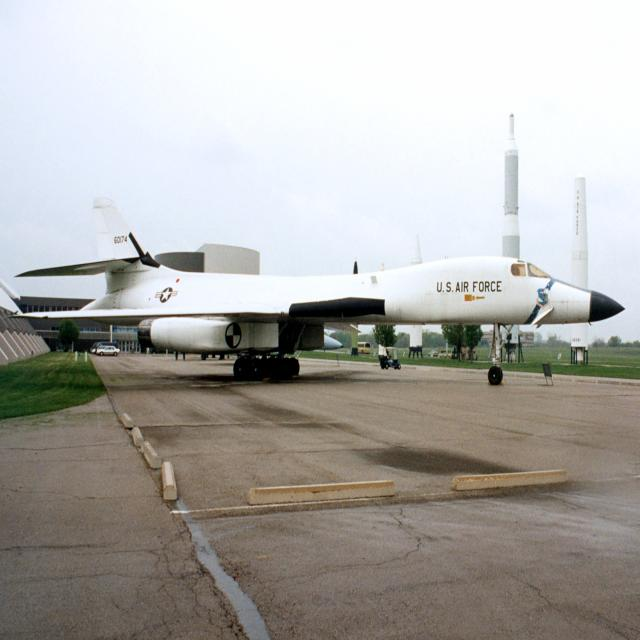MIL_Plane: (3, 227, 625, 350)
